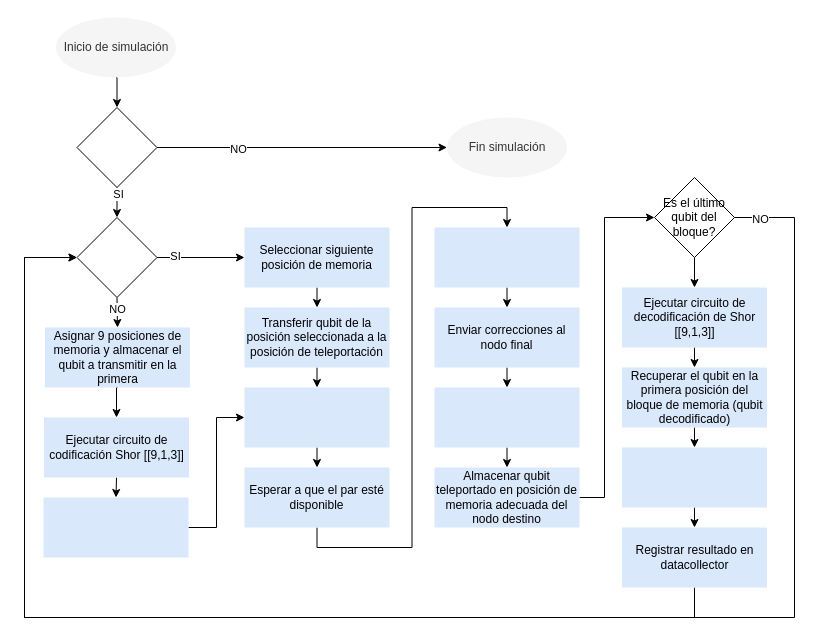
Image size: 820x643. Some labels were removed from this diagram. Each missing label, with the centre of its shape:
"Esperar finalización protocolo de Teleportación" belongs at (x=506, y=417).
"Existe qubit codificado?" belongs at (x=116, y=257).
"Medir fidelidad del qubit decodificado respecto del enviado originalmente" belongs at (x=694, y=477).
"Realizar mediciones en base de Bell" belongs at (x=506, y=257).
"Simulación activa?" belongs at (x=116, y=147).
"Solicitar un par entrelazado al RouteProtocol del path" belongs at (x=316, y=417).
"Transferir primer qubit codificado a la posición de teleportación" belongs at (x=115, y=527).
